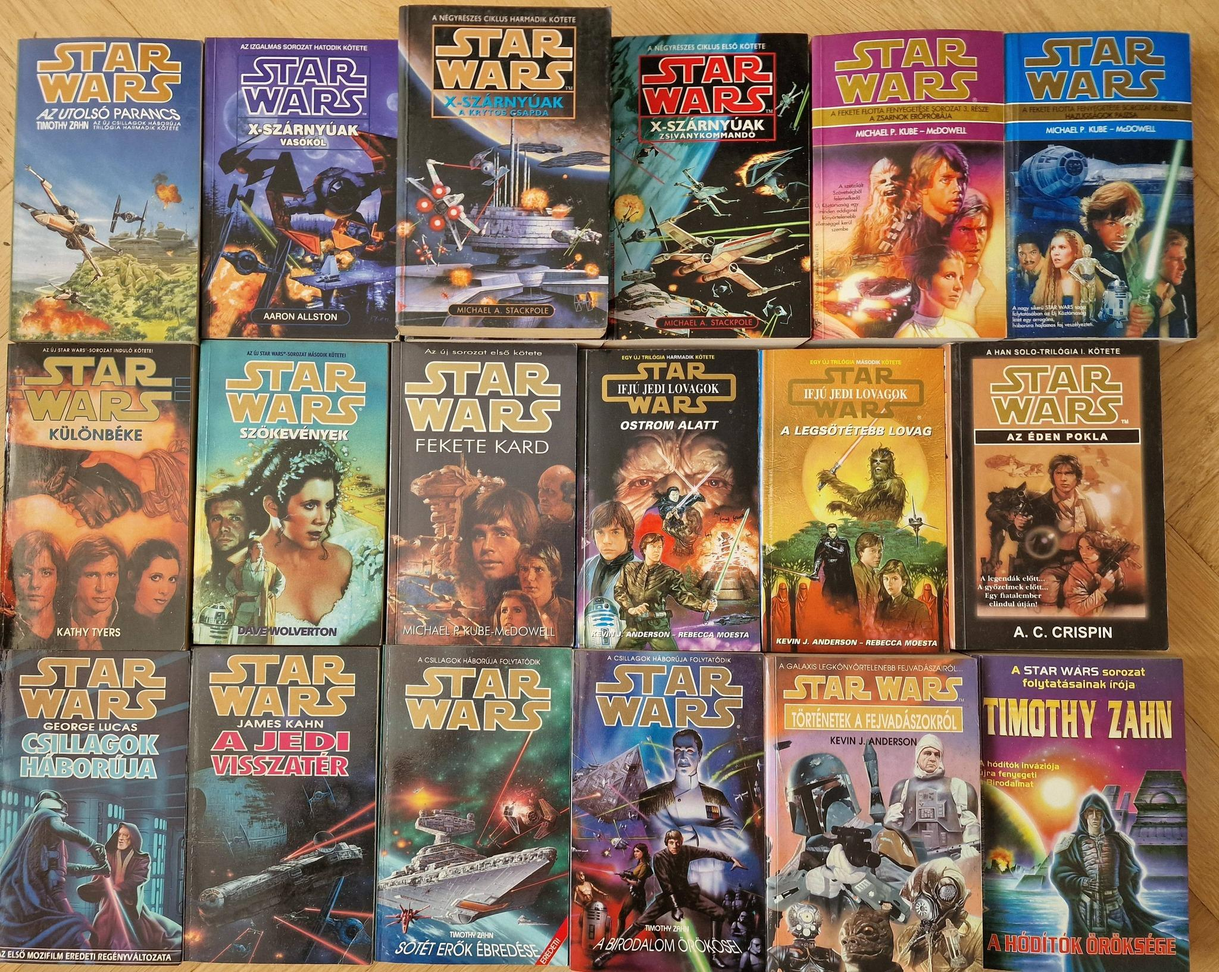comic: (397, 4, 613, 339), (766, 654, 985, 972), (950, 338, 1167, 654), (978, 652, 1190, 972), (374, 644, 576, 968), (183, 642, 383, 968), (0, 337, 199, 655), (571, 651, 767, 971), (610, 33, 811, 345), (810, 29, 1007, 342), (200, 37, 400, 339), (0, 651, 190, 965), (193, 340, 388, 645), (761, 343, 952, 654), (387, 340, 578, 647), (1006, 31, 1196, 338), (10, 38, 201, 342), (575, 347, 761, 652)
